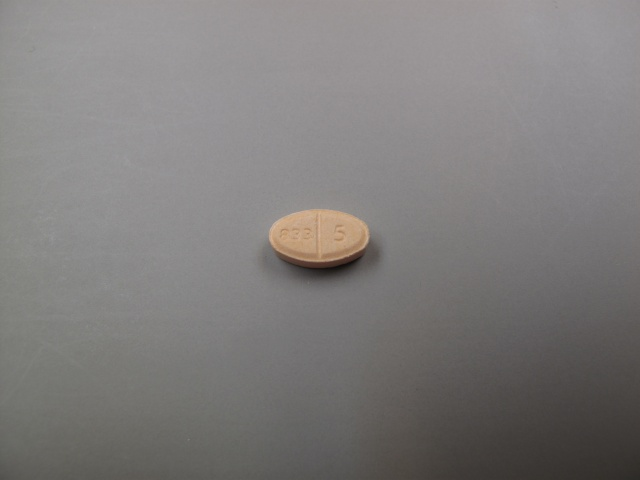3: (302, 226, 314, 243), (291, 227, 301, 243)
5: (331, 221, 350, 243)
8: (277, 226, 291, 243)
|: (312, 209, 323, 262)
